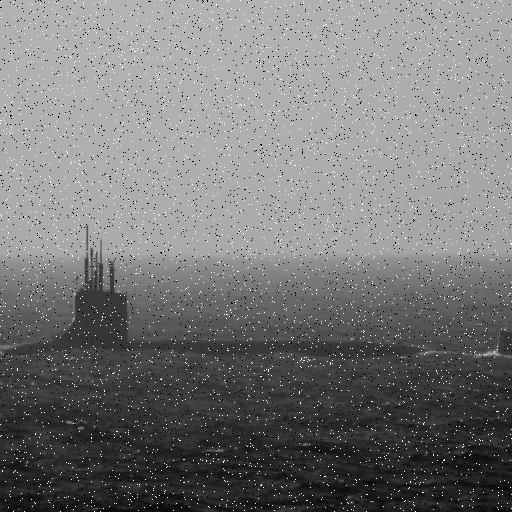submarine: (2, 221, 512, 362)
